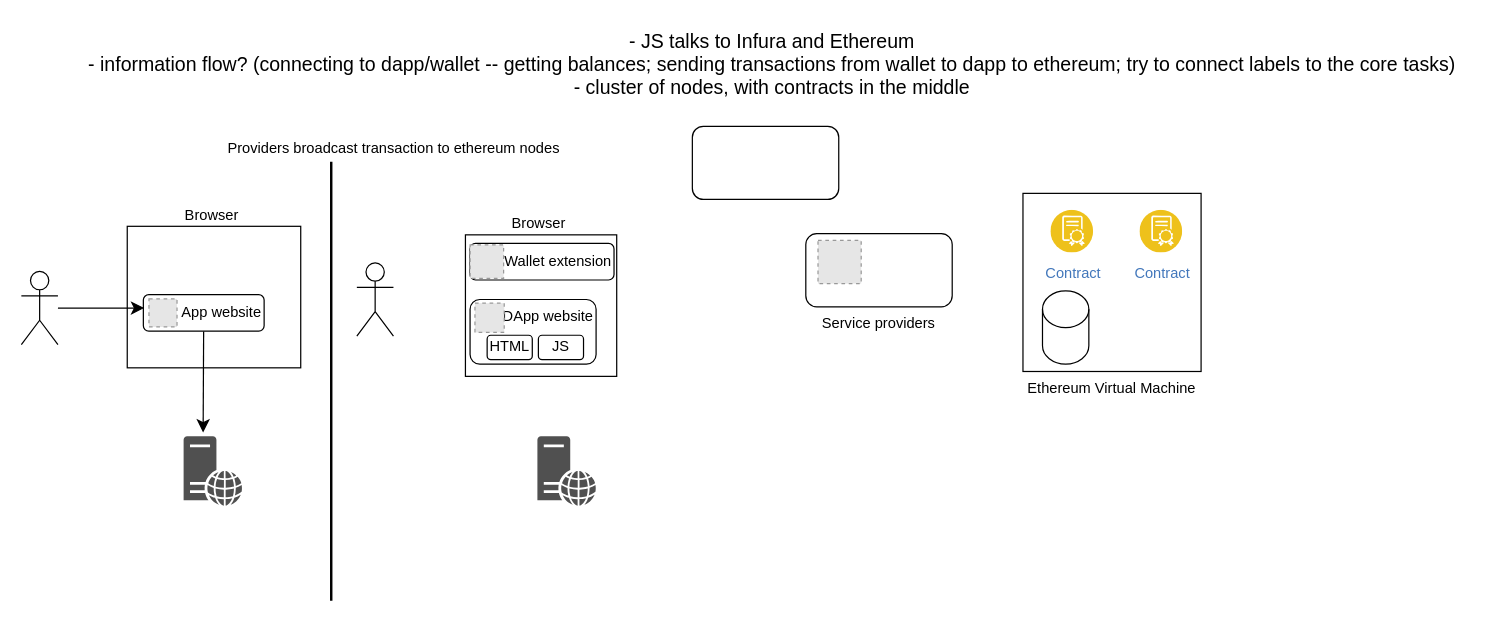
The diagram is 1487 pixels wide and 625 high, and some of its shapes have lost their labels. Grey dashed boxes stand in for pictures. The centre of each missing label's shape, as x and y in pixels:
App server: the point at 212,470
DApp server: the point at 566,470
Data: the point at 1065,327
RPC: the point at 765,162
